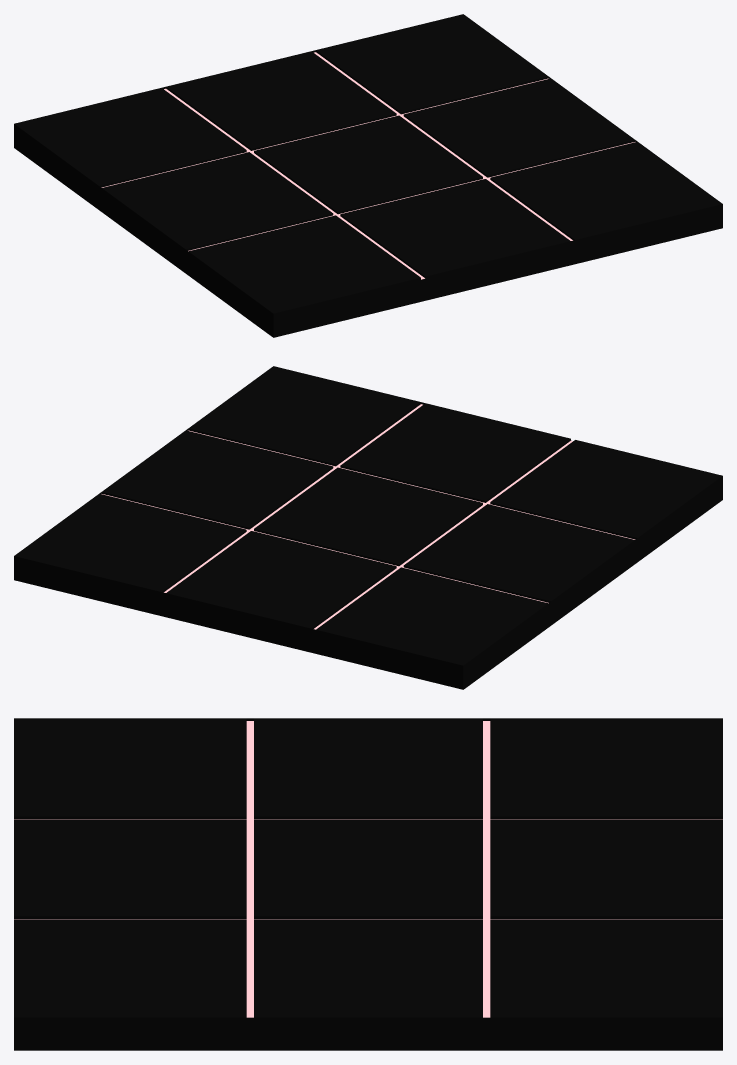
The model's file is floor.fbx.
3 views of the same model, one above another, from view 1: azimuth 30°, elevation 25°; view 2: azimuth 150°, elevation 25°; view 3: azimuth 270°, elevation 25° (orthographic). The views are drawn at different scales.
Parts seen in each view (by area): view 1: Cube; view 2: Cube; view 3: Cube.
Boxes of the visible parts, bbox=[...] form: Cube: bbox=[14, 14, 722, 337]; Cube: bbox=[14, 366, 722, 689]; Cube: bbox=[14, 718, 722, 1050].
Size of the model in its own units: 200 by 10.28 by 200.
